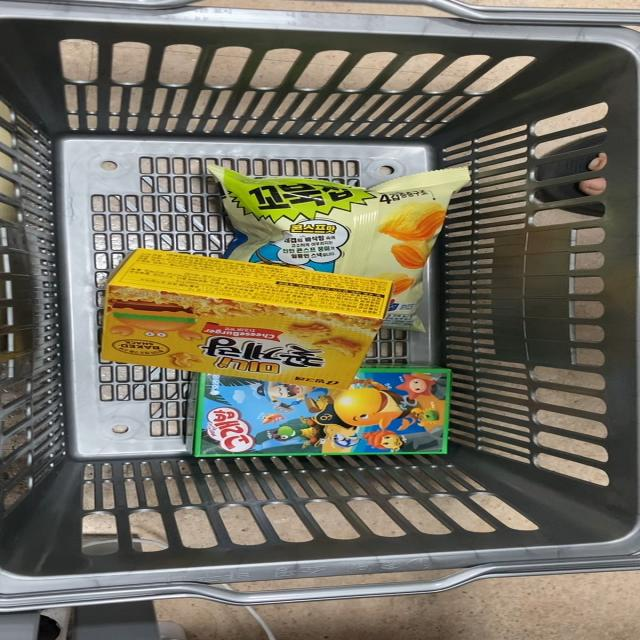ggobukchip: (196, 166, 469, 261)
goraebob: (188, 374, 462, 459)
minicrab: (87, 240, 392, 390)
